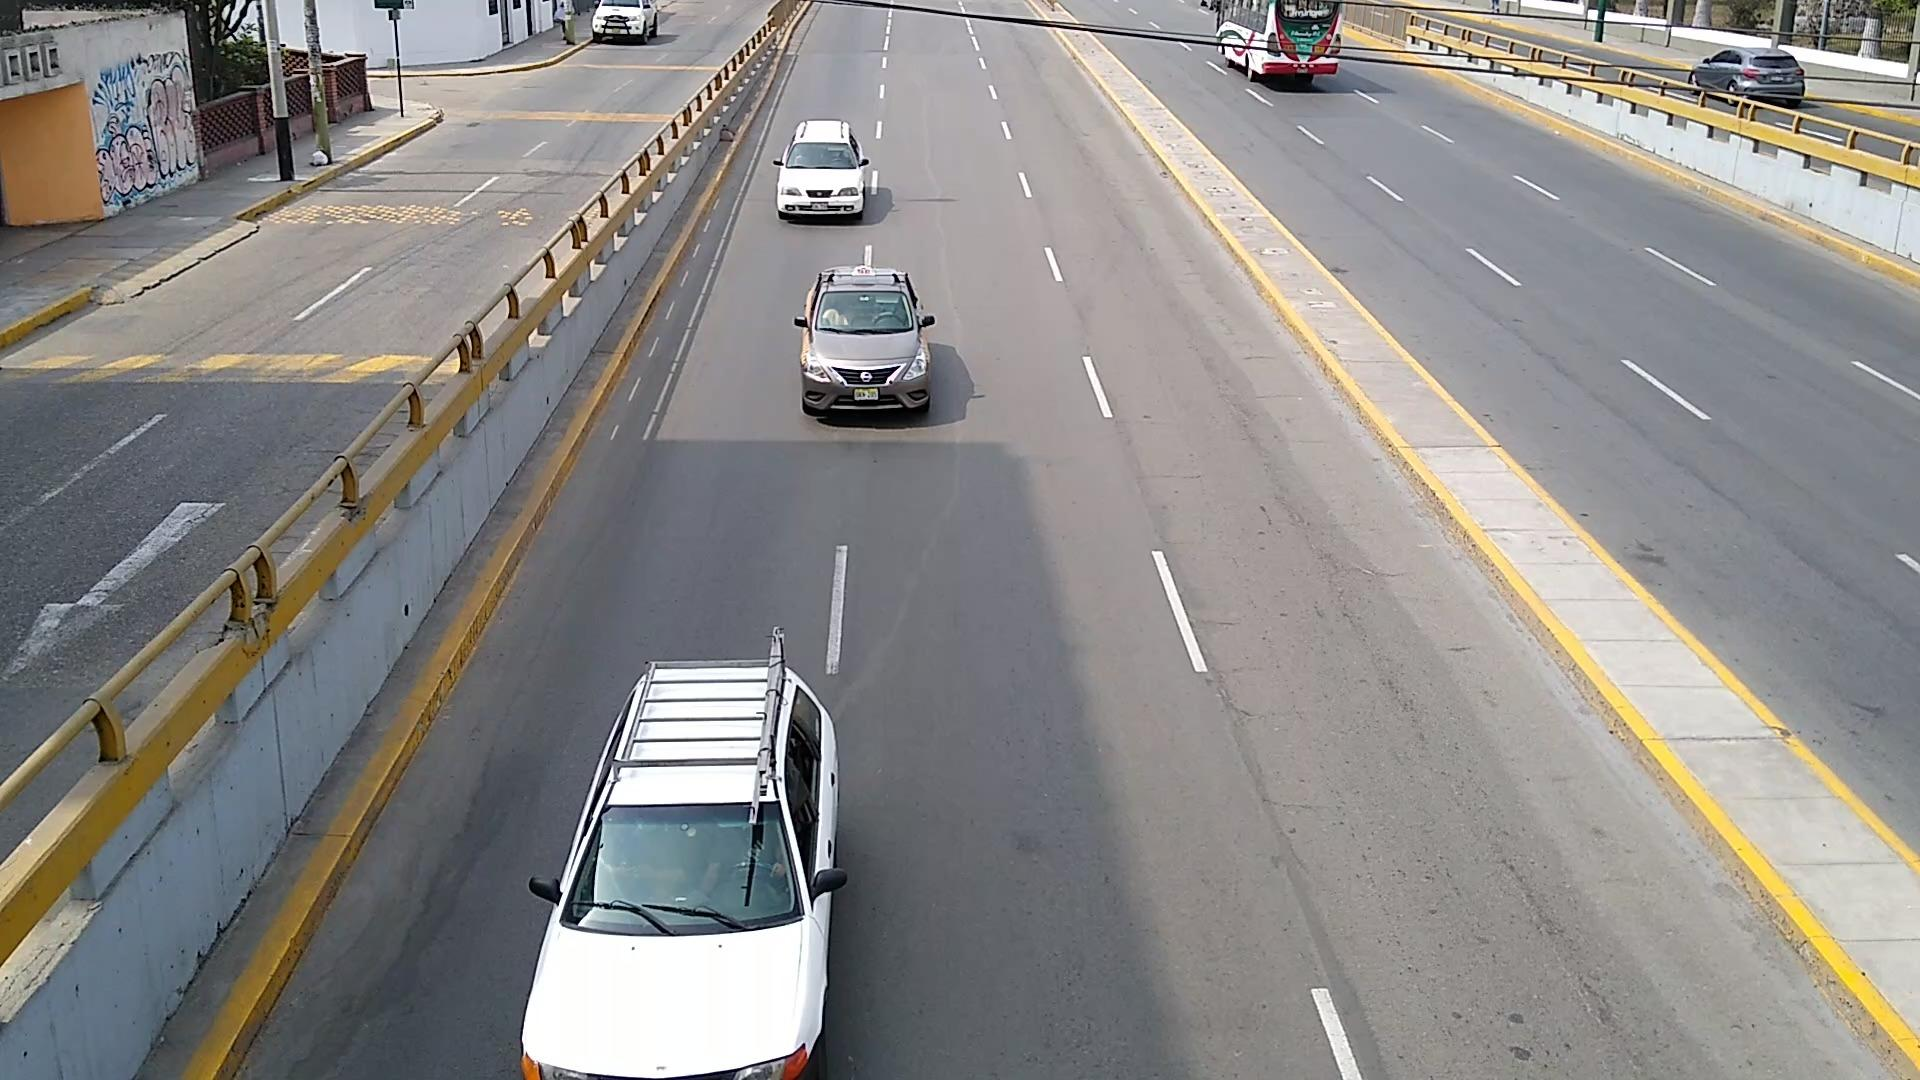bus: (1215, 0, 1342, 83)
car: (521, 634, 844, 1080), (795, 262, 934, 417), (773, 120, 870, 219), (1688, 49, 1804, 108), (592, 0, 657, 44)
